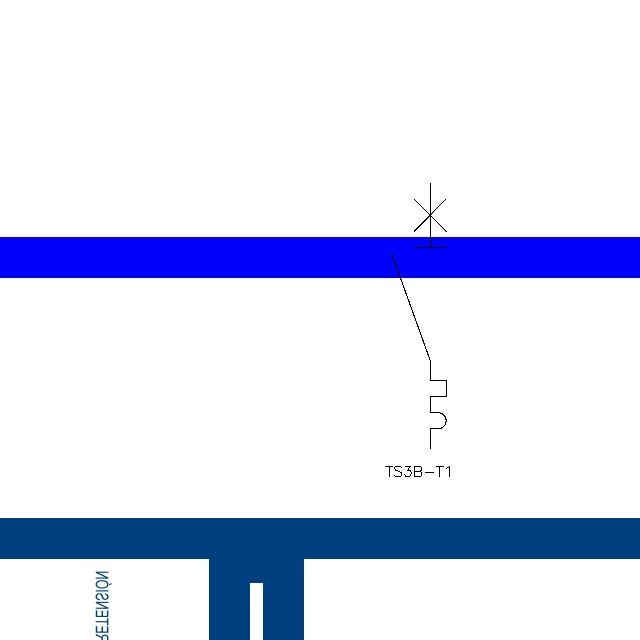interruptor_termomagnetico: (385, 176, 453, 456)
